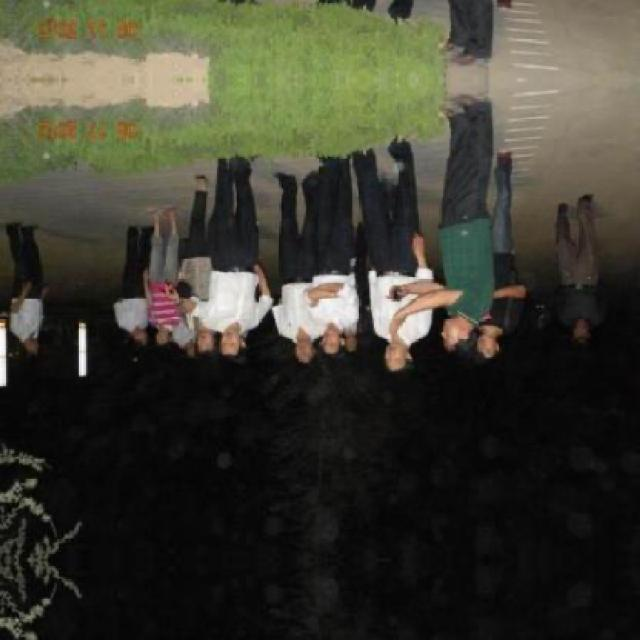sin casco: (411, 299, 505, 374), (382, 336, 438, 386), (308, 329, 380, 366), (198, 316, 264, 355), (432, 314, 480, 358)
